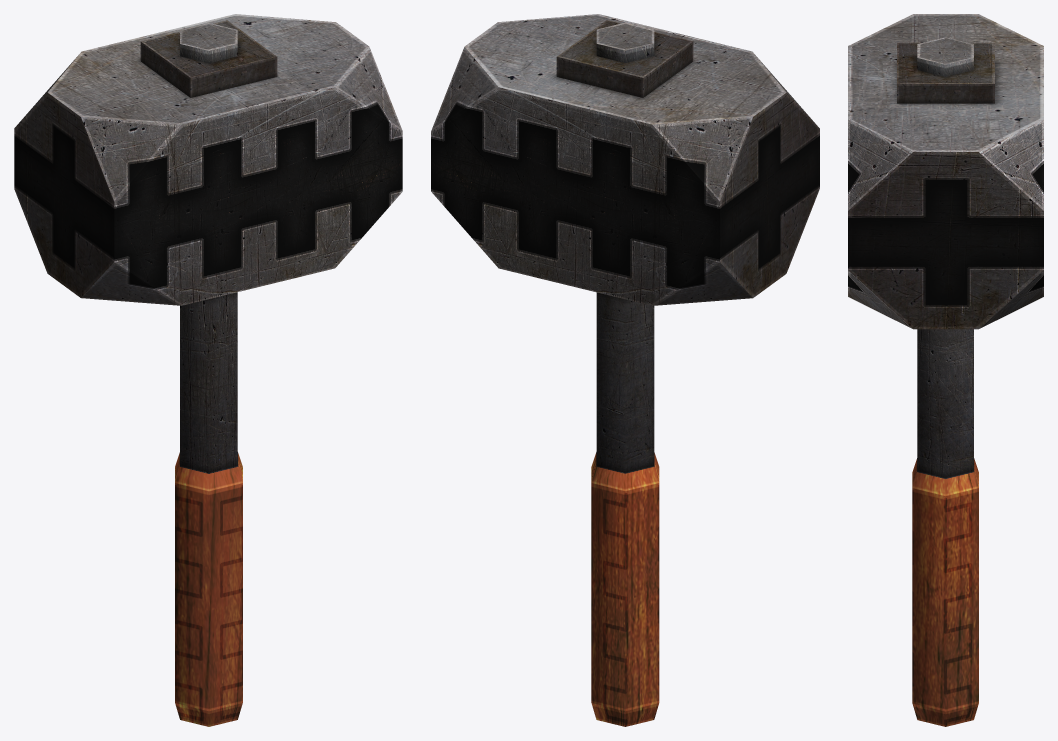
Rendered from hammer03_regular.FBX.
3 views of the same model, side by side, from view 1: azimuth 30°, elevation 25°; view 2: azimuth 150°, elevation 25°; view 3: azimuth 270°, elevation 25° (orthographic). The views are drawn at different scales.
Parts seen in each view (by area): view 1: hammer03; view 2: hammer03; view 3: hammer03.
Part boxes in pixels (x1,y1,x2,y2): hammer03: (14, 14, 402, 726); hammer03: (431, 14, 819, 726); hammer03: (848, 14, 1043, 726).
Size of the model in its own units: 0.4305 by 0.9636 by 0.2583.
